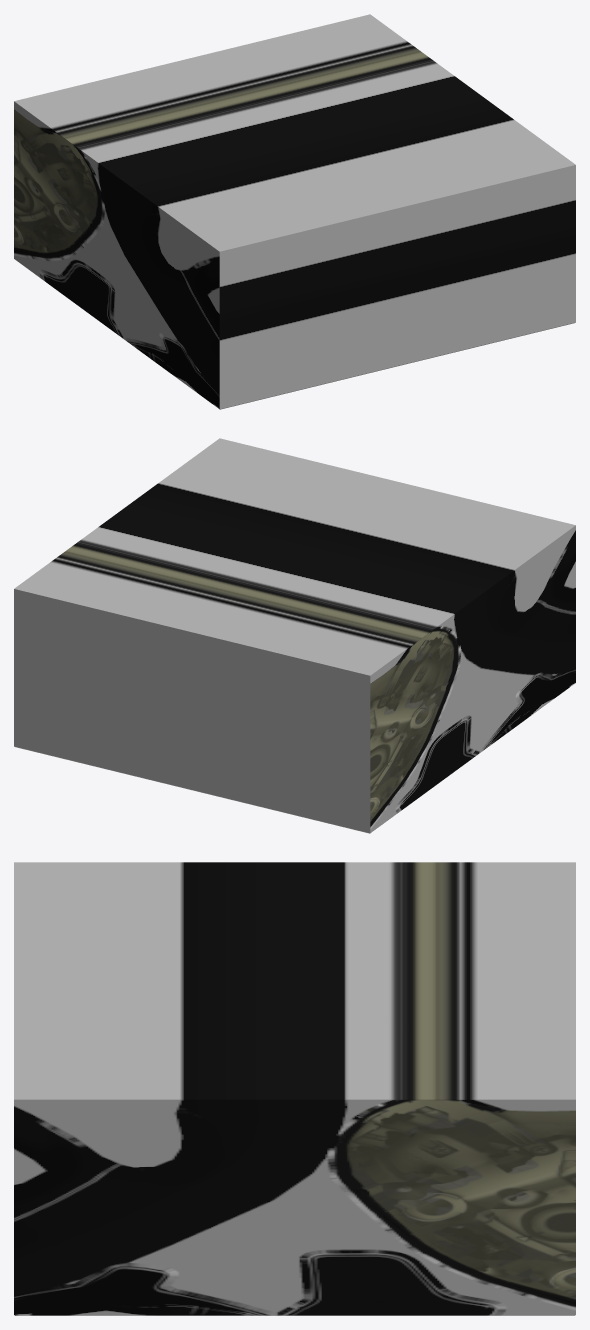
The model's file is Shelf_C.obj.
The picture shows the model from 3 angles, top to bottom: view 1: azimuth 30°, elevation 25°; view 2: azimuth 150°, elevation 25°; view 3: azimuth 270°, elevation 25°; orthographic projection. The views are drawn at different scales.
Bounding box in the file's own units: 0.762 × 0.3239 × 0.762.
